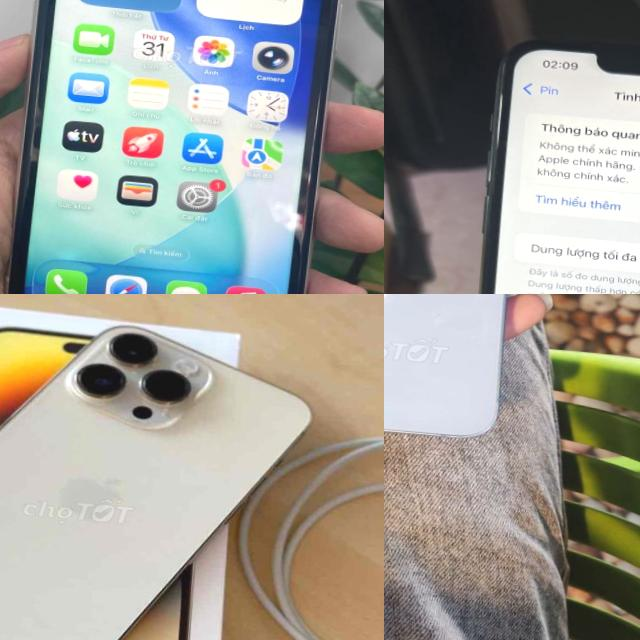gen_11: (0, 0, 366, 294), (450, 29, 640, 294)
gen_14: (0, 298, 319, 640), (384, 294, 550, 453)
